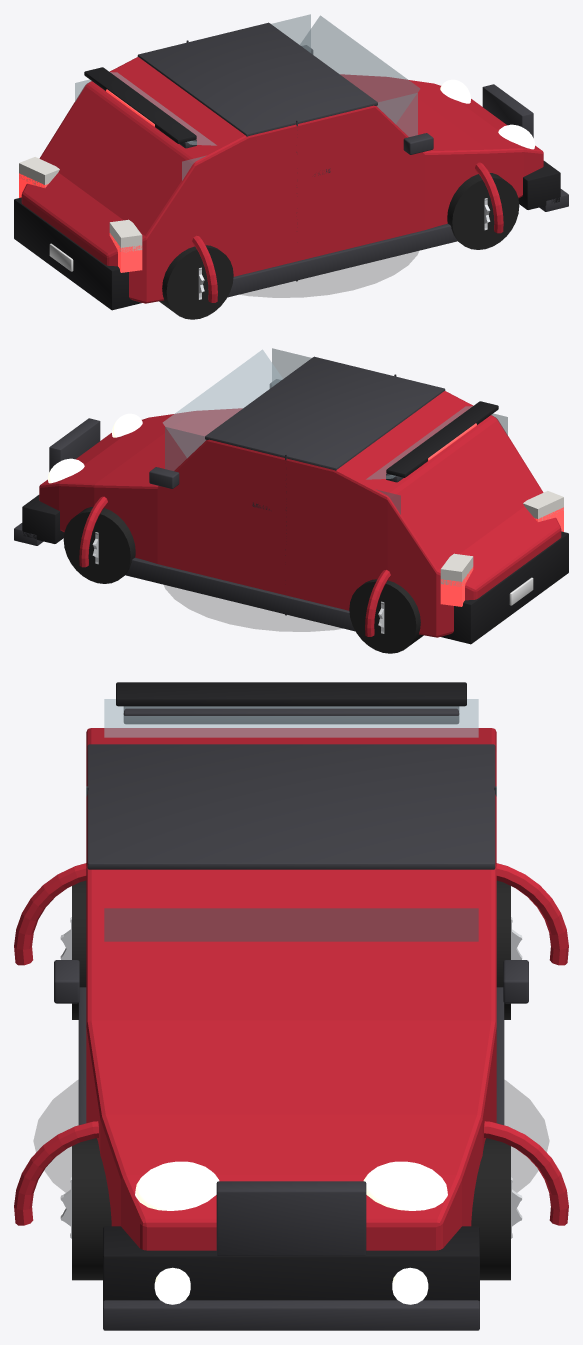
File: peugeot-106-gti.glb
The picture shows the model from 3 angles, top to bottom: view 1: azimuth 30°, elevation 25°; view 2: azimuth 150°, elevation 25°; view 3: azimuth 270°, elevation 25°; orthographic projection. The views are drawn at different scales.
Visible parts, largest first — view 1: Body, RoofTrim, Windshield, RearValance, SkirtL, Wheel_FL_Tyre, Wheel_RL_Tyre, Shadow, SpoilerWing, FrontValance, Grille, DoorGlass_L (+10 smaller); view 2: Body, RoofTrim, Windshield, RearValance, SkirtR, Wheel_FR_Tyre, Wheel_RR_Tyre, Shadow, SpoilerWing, FrontValance, Grille, DoorGlass_R (+10 smaller); view 3: Body, RoofTrim, FrontValance, Windshield, FrontLip, Grille, RearGlass, SpoilerWing, SpoilerBase, Shadow, Wheel_FL_Tyre, Wheel_FR_Tyre (+14 smaller).
Boxes of the visible parts, x1,y1,x2,y2 form: Body: [21, 57, 543, 303]; RoofTrim: [137, 22, 377, 136]; Windshield: [300, 15, 419, 123]; RearValance: [14, 197, 141, 310]; SkirtL: [227, 223, 457, 297]; Wheel_FL_Tyre: [447, 173, 519, 249]; Wheel_RL_Tyre: [159, 245, 233, 319]; Shadow: [240, 251, 418, 297]; SpoilerWing: [84, 67, 196, 143]; FrontValance: [518, 161, 560, 209]; Grille: [482, 84, 533, 137]; DoorGlass_L: [377, 93, 417, 136]; Body: [39, 391, 561, 637]; RoofTrim: [205, 356, 445, 470]; Windshield: [163, 349, 282, 457]; RearValance: [441, 531, 568, 644]; SkirtR: [125, 557, 355, 631]; Wheel_FR_Tyre: [63, 507, 135, 583]; Wheel_RR_Tyre: [349, 579, 423, 653]; Shadow: [164, 585, 342, 631]; SpoilerWing: [386, 401, 498, 477]; FrontValance: [22, 495, 64, 543]; Grille: [49, 418, 100, 471]; DoorGlass_R: [165, 427, 205, 470]; Body: [86, 728, 496, 1250]; RoofTrim: [87, 744, 495, 869]; FrontValance: [103, 1226, 479, 1300]; Windshield: [104, 908, 478, 941]; FrontLip: [103, 1300, 479, 1330]; Grille: [216, 1181, 366, 1255]; RearGlass: [104, 699, 478, 737]; SpoilerWing: [116, 682, 466, 706]; SpoilerBase: [123, 706, 459, 724]; Shadow: [34, 1080, 548, 1192]; Wheel_FL_Tyre: [72, 1138, 111, 1280]; Wheel_FR_Tyre: [471, 1138, 510, 1280].
Size of the model in its own units: 3.83 by 1.38 by 2.15.
